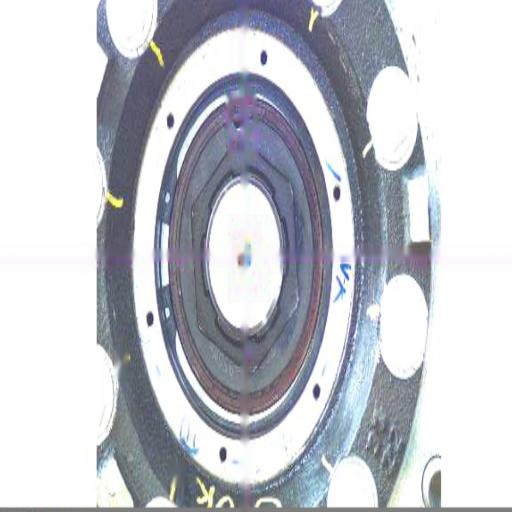center: (236, 248, 247, 276)
notch: (230, 113, 246, 136)
